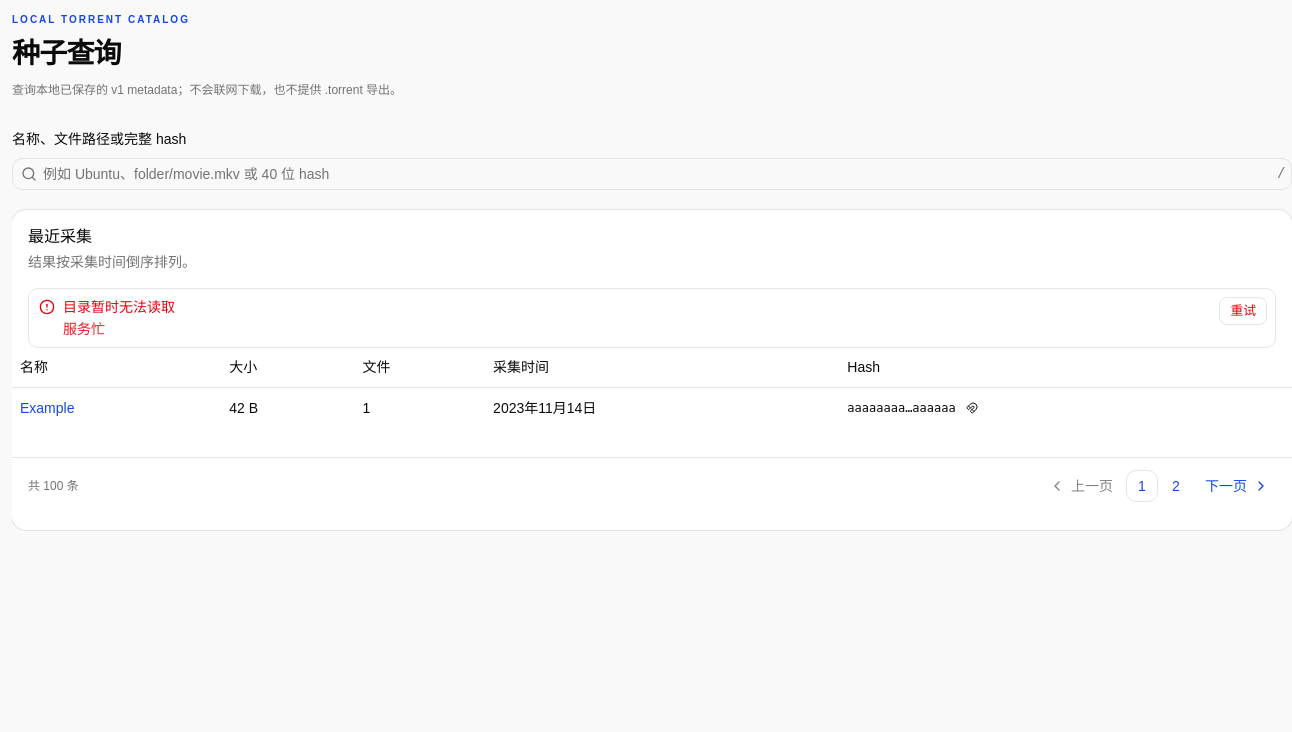
Test case: 刷新失败保留已有结果，并可从错误提示重试
Check: the text "目录暂时无法读取" is shown, box [63,299,175,315]
Check: the link "Example" is shown, box [20,400,74,416]
Click the button "重试". click: (1243, 311)
box: [1219,297,1267,325]
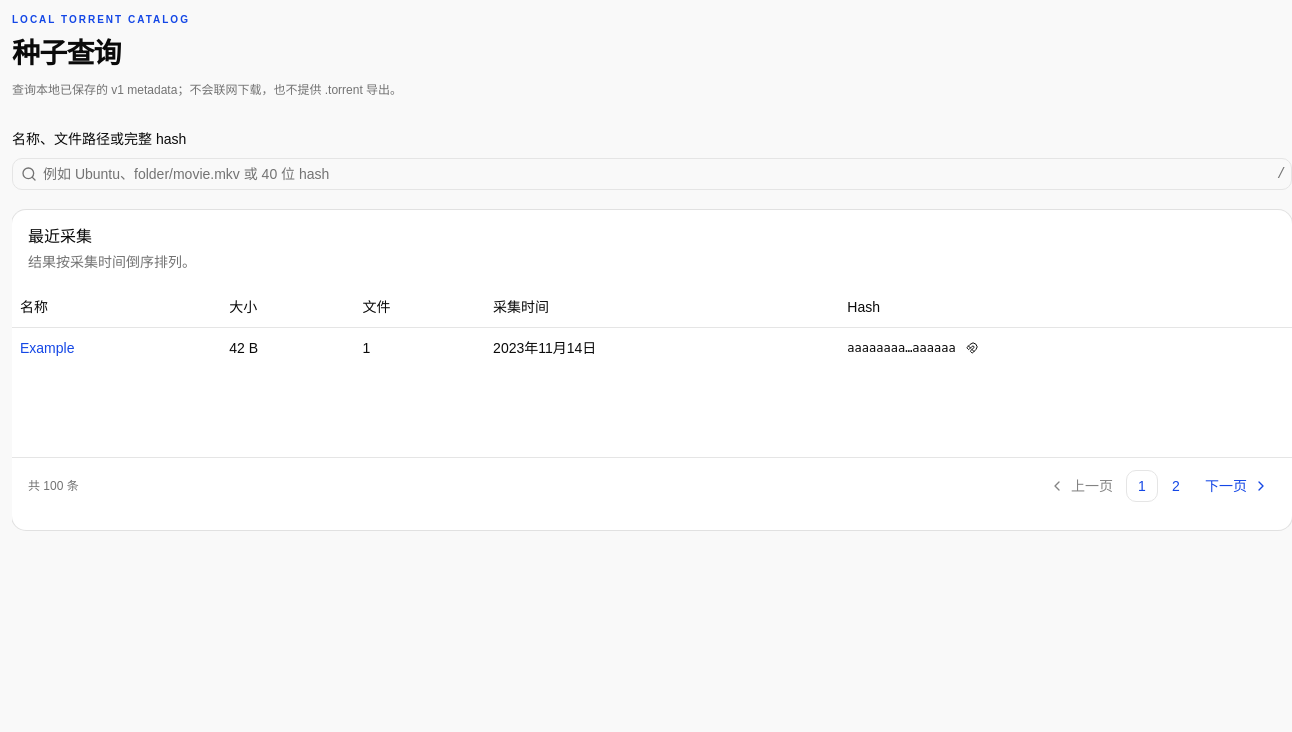
Check: the link "Example" is shown, box [20,340,74,356]
Check: the text "目录暂时无法读取" is gone
